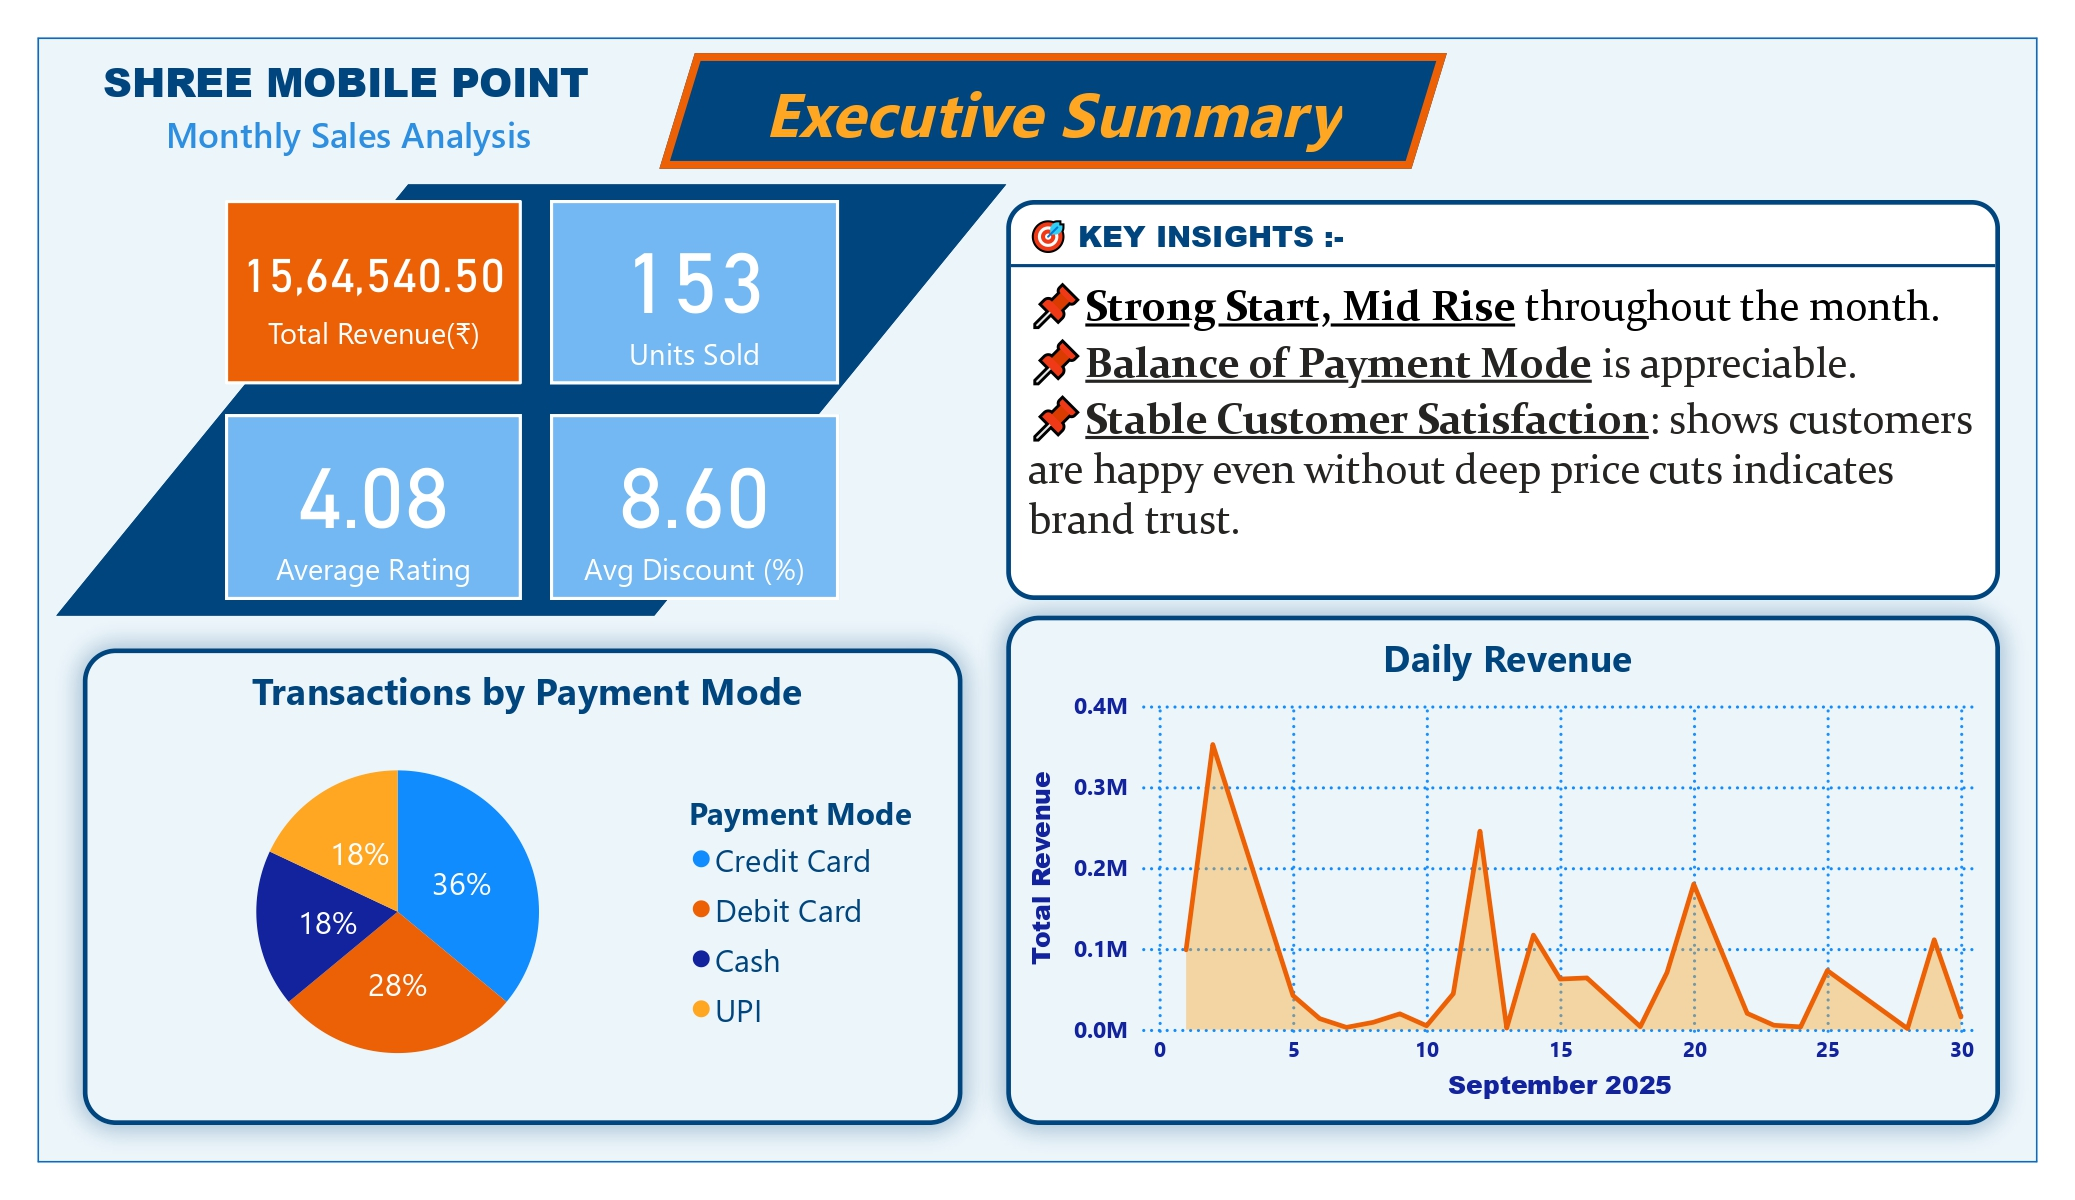

The dashboard page shown, as its layout file describes it:
{"tool":"powerbi","page":{"name":"Executive Summary","canvas":[1280,720],"ordinal":0},"visuals":[{"type":"shape","box":[0,0,1279.8,720],"z":0},{"type":"textbox","title":"SHREE MOBILE POINT","box":[36.7,10.3,326.2,36.7],"z":1000},{"type":"textbox","title":"Monthly Sales Analysis","box":[61.7,47,274.8,36.7],"z":2000},{"type":"shape","box":[398.2,10.3,504,73.5],"z":3000},{"type":"shape","box":[11.8,94,608.3,276.2],"z":4000},{"type":"card","fields":{"Values":["Sales.Total Revenue"]},"box":[120.5,104.3,189.6,117.6],"z":5000},{"type":"card","fields":{"Values":["Sales.Units Sold"]},"box":[327.7,104.3,185.1,117.6],"z":6000},{"type":"card","fields":{"Values":["Avg(Sales.Discount (%))"]},"box":[327.7,241,185.1,119],"z":7000},{"type":"card","fields":{"Values":["Avg(Sales.Customer Rating)"]},"box":[120.5,241,189.6,119],"z":8000},{"type":"pieChart","title":"Transactions by Payment Mode  ","fields":{"Category":["Sales.Payment Mode"],"Y":["Sales.Transactions"]},"box":[29.4,390.9,562.8,305.6],"z":9000},{"type":"lineChart","title":"Daily Revenue ","fields":{"Y":["Sales.Total Revenue"],"Category":["DateTable.Date.Variation.Date Hierarchy.Day"]},"box":[620.1,370.3,636.2,326.2],"z":10000},{"type":"textbox","title":"🎯 KEY INSIGHTS :-","box":[620.1,104.3,636.2,255.7],"z":11000}]}

Visuals, with their boxes on the page's 1280x720 design canvas (x1, y1, x2, y2). These are canvas units, not pixel positions in the 2075x1200 screenshot, which may show the page scaled, cropped or inside an application window:
shape: [left=0, top=0, right=1280, bottom=720]
"SHREE MOBILE POINT" textbox: [left=37, top=10, right=363, bottom=47]
"Monthly Sales Analysis" textbox: [left=62, top=47, right=336, bottom=84]
shape: [left=398, top=10, right=902, bottom=84]
shape: [left=12, top=94, right=620, bottom=370]
card - Sales.Total Revenue: [left=120, top=104, right=310, bottom=222]
card - Sales.Units Sold: [left=328, top=104, right=513, bottom=222]
card - Avg(Sales.Discount (%)): [left=328, top=241, right=513, bottom=360]
card - Avg(Sales.Customer Rating): [left=120, top=241, right=310, bottom=360]
"Transactions by Payment Mode  " pieChart: [left=29, top=391, right=592, bottom=696]
"Daily Revenue " lineChart: [left=620, top=370, right=1256, bottom=696]
"🎯 KEY INSIGHTS :-" textbox: [left=620, top=104, right=1256, bottom=360]
